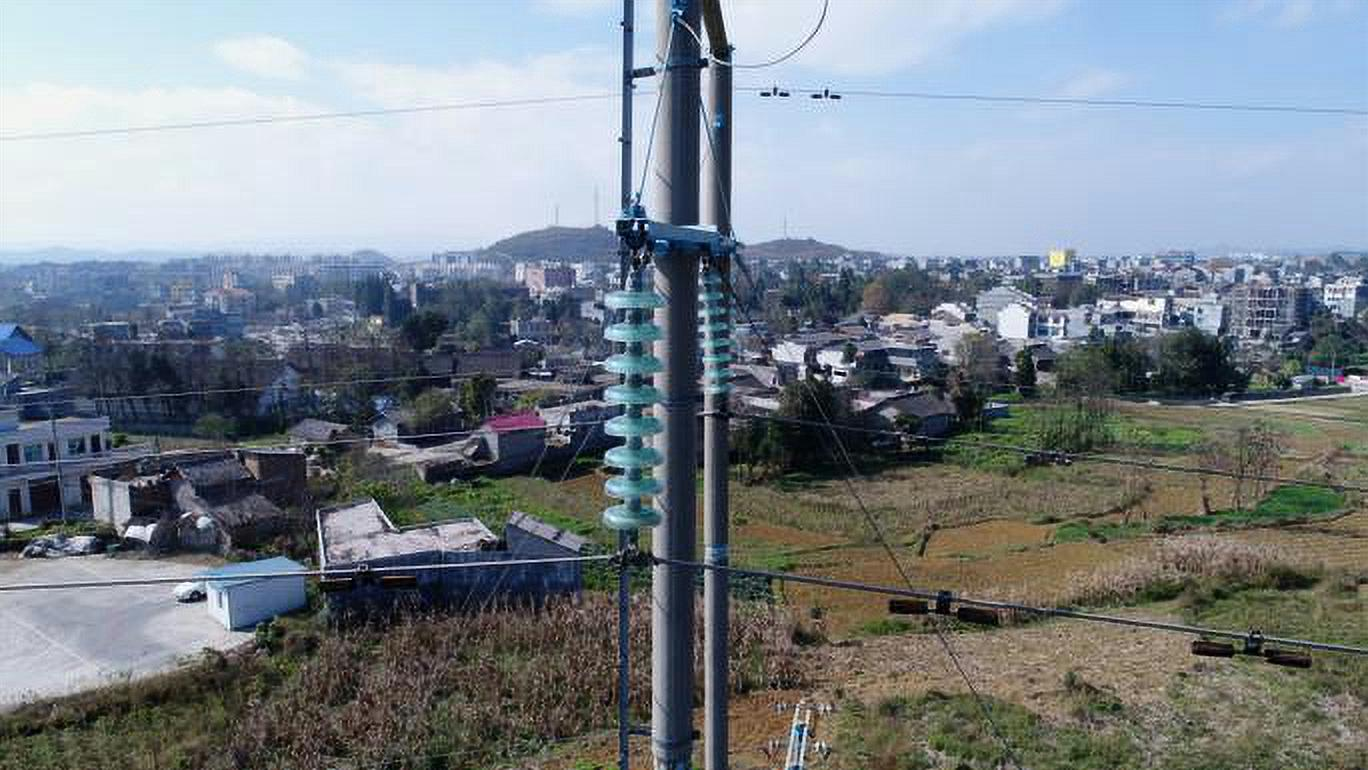insulator: (599, 284, 673, 536), (692, 269, 741, 399)
